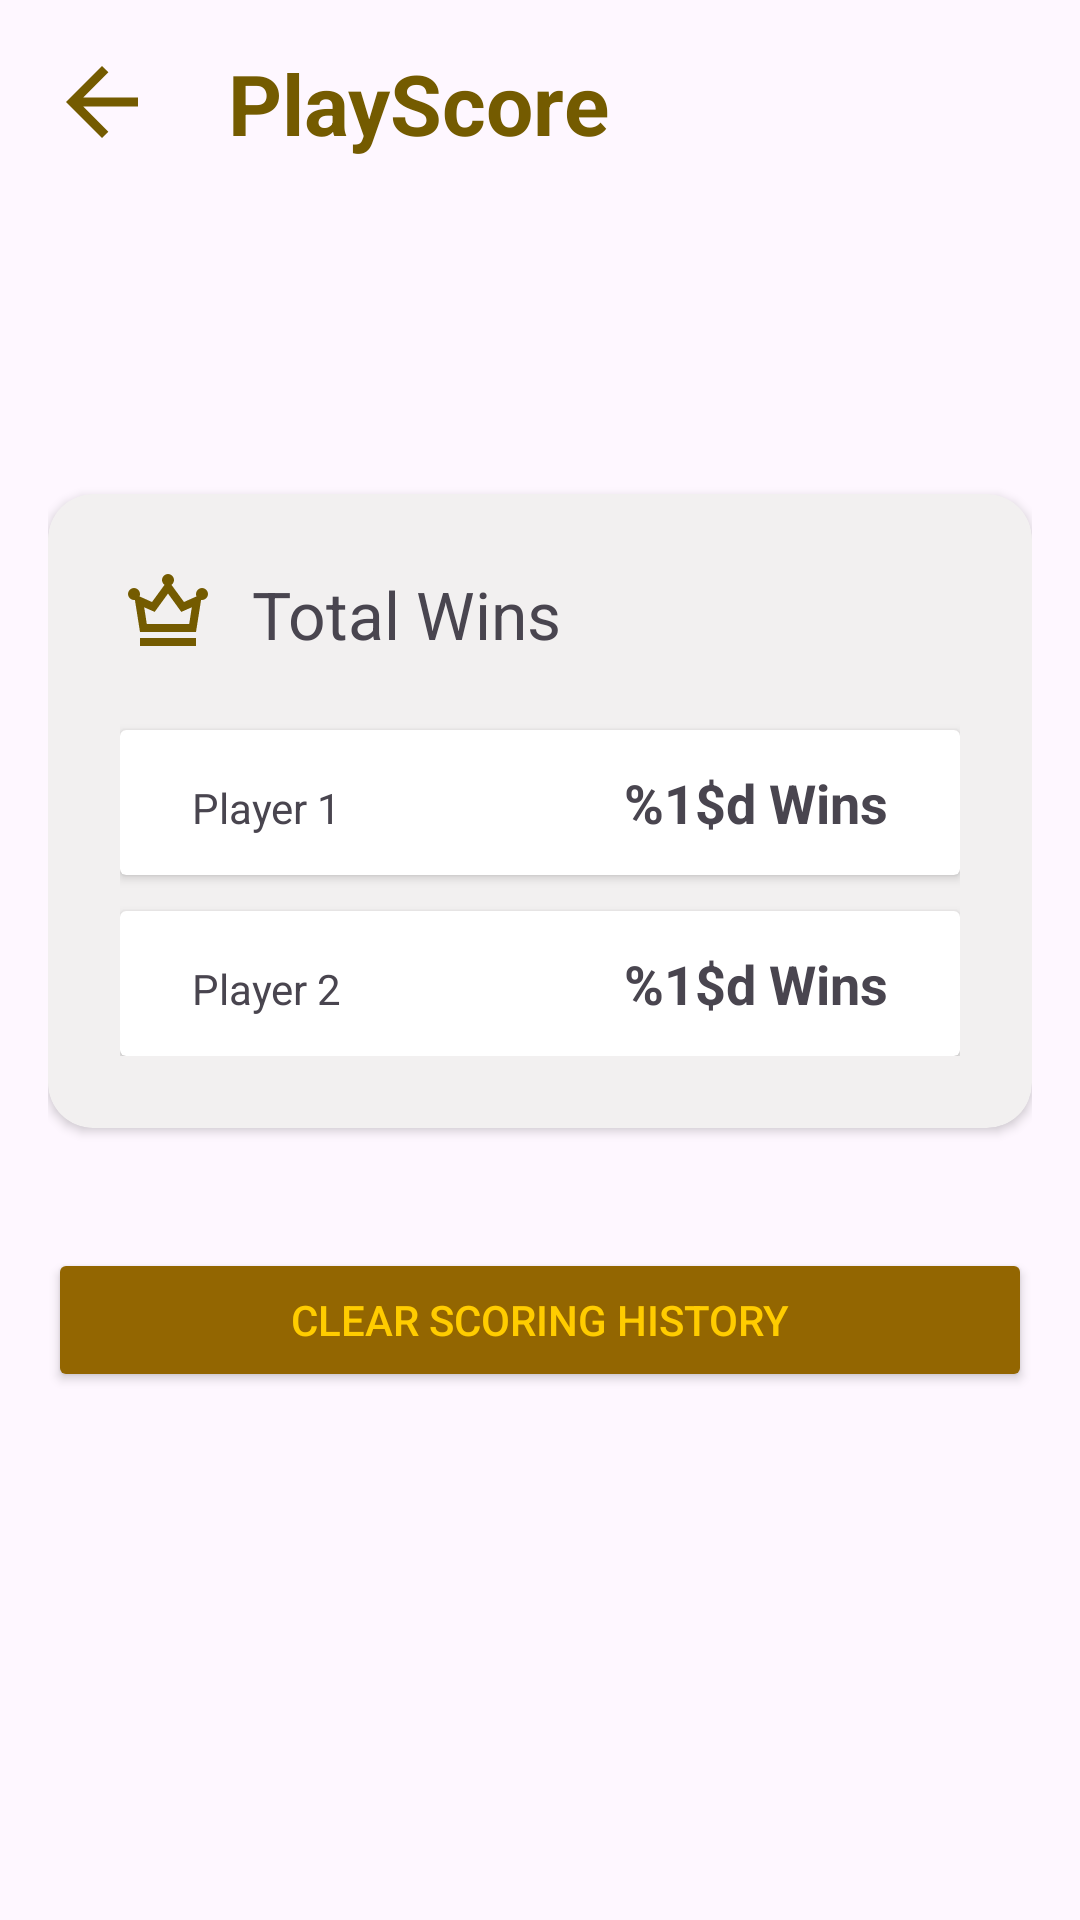

Where to tap for icons on this 1080 × 1920 app screen, as (x=x, y=y):
Back: (x=102, y=102)
winner: (x=168, y=610)
